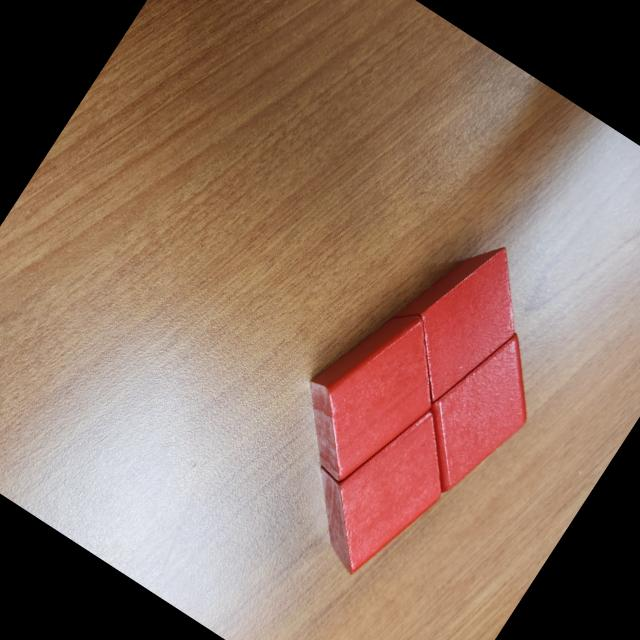red: (272, 284, 468, 502), (286, 379, 478, 594), (362, 214, 550, 420), (393, 314, 564, 511)
